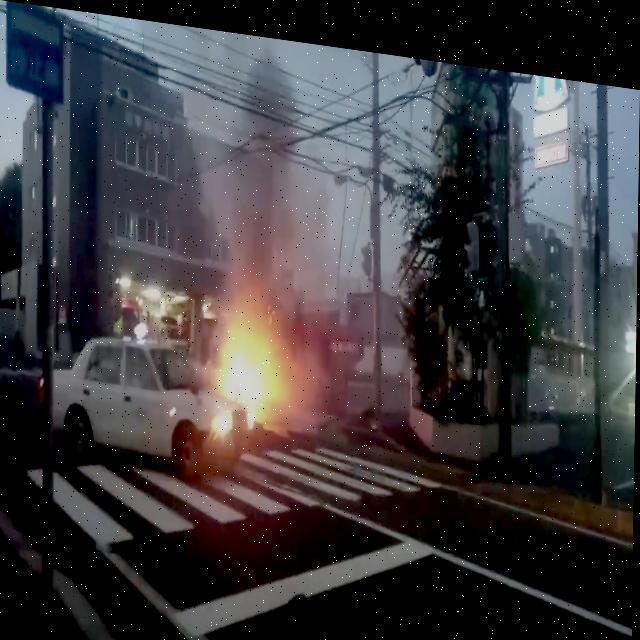Fire: (212, 308, 286, 432)
